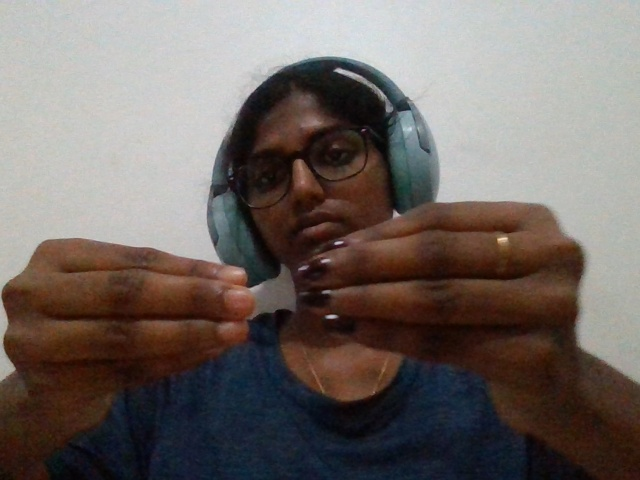More: (1, 176, 624, 480)
